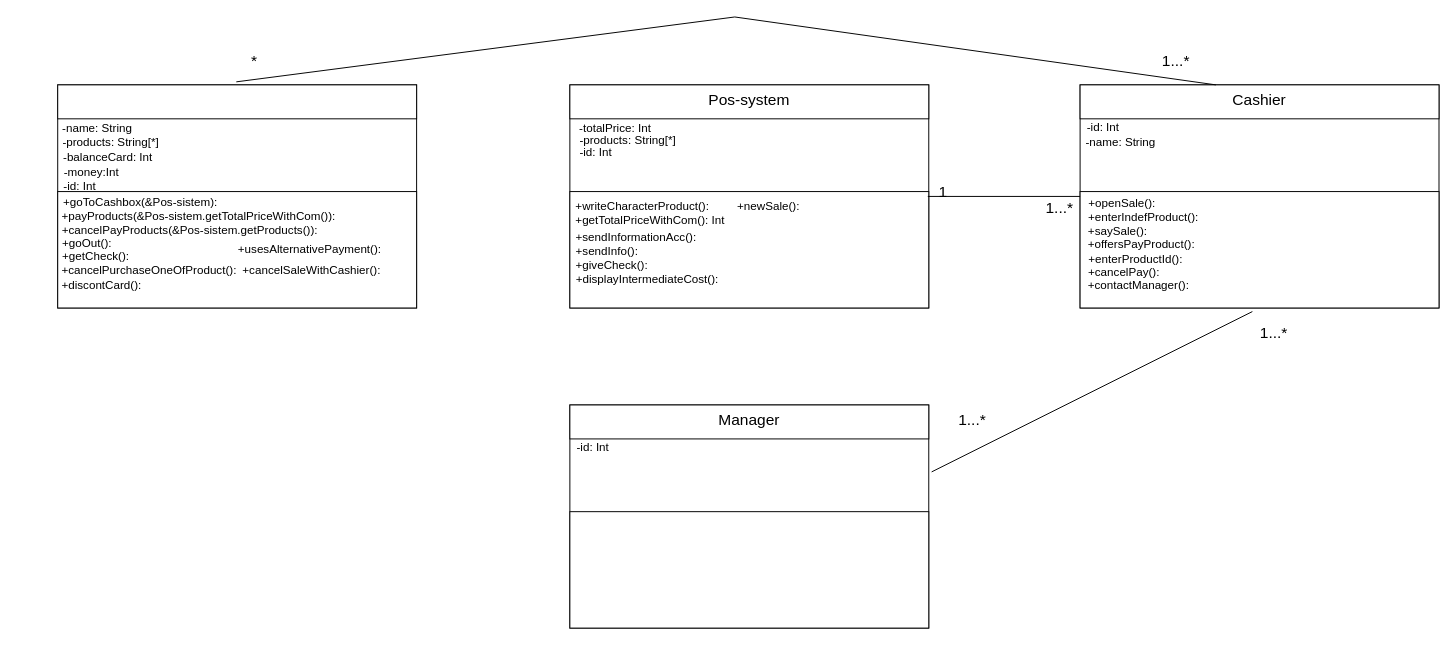
Some shapes in this 1456 by 645 pixel diagram are drawn without their labels. Each missing label, with the centre of its shape:
+interruptOperation():: the point at 749,569
Customer: the point at 237,101
